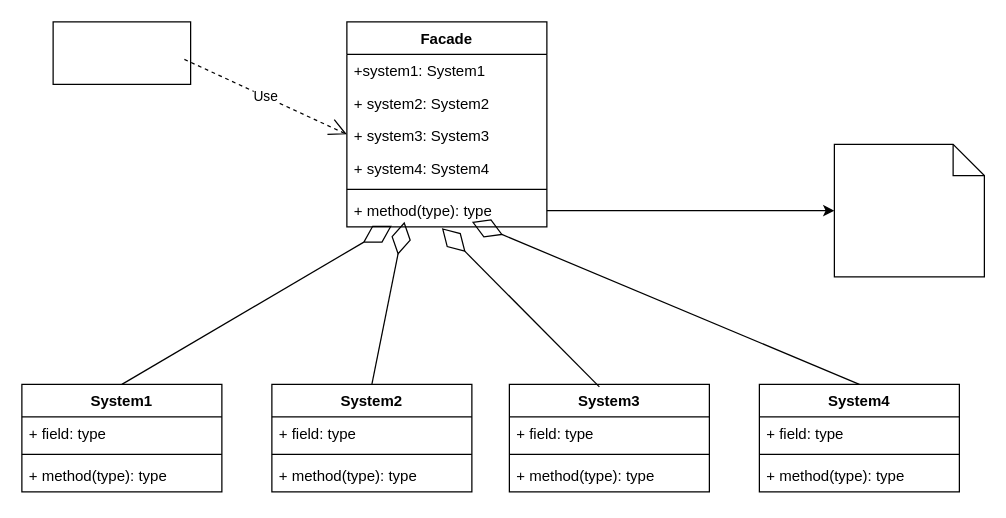
This 1006x518 diagram has some shape labels left out. Each missing label, with the centre of its shape:
"Client" belongs at (x=121, y=52).
"system1.method() system2.method() system3.method() system4.method()" belongs at (x=908, y=210).
